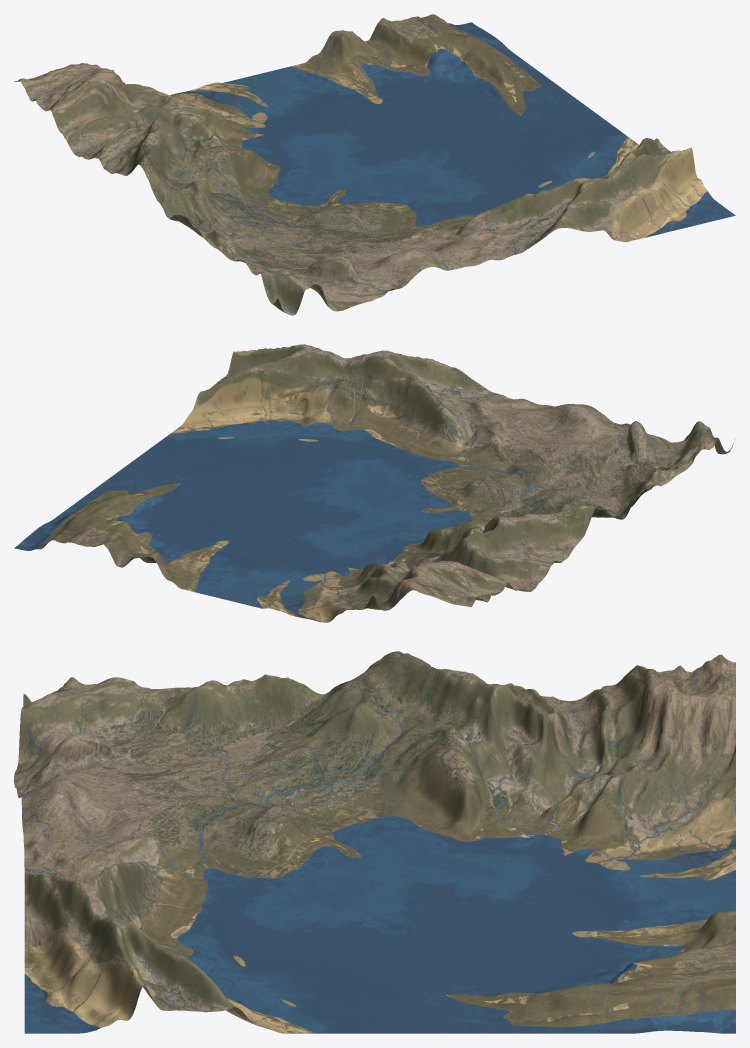
Rendered from MountFinally.fbx.
3 renders of one model, top to bottom at view 1: azimuth 30°, elevation 25°; view 2: azimuth 150°, elevation 25°; view 3: azimuth 270°, elevation 25°, orthographic. The views are drawn at different scales.
Visible parts, largest first — view 1: Mesher; view 2: Mesher; view 3: Mesher.
Part boxes in pixels (box(x1,y1,x2,y2)): Mesher: box(14, 14, 735, 315); Mesher: box(14, 344, 734, 622); Mesher: box(14, 651, 735, 1033).
Size of the model in its own units: 100 by 13.42 by 102.
Materials: 1 (1 with a texture image).
